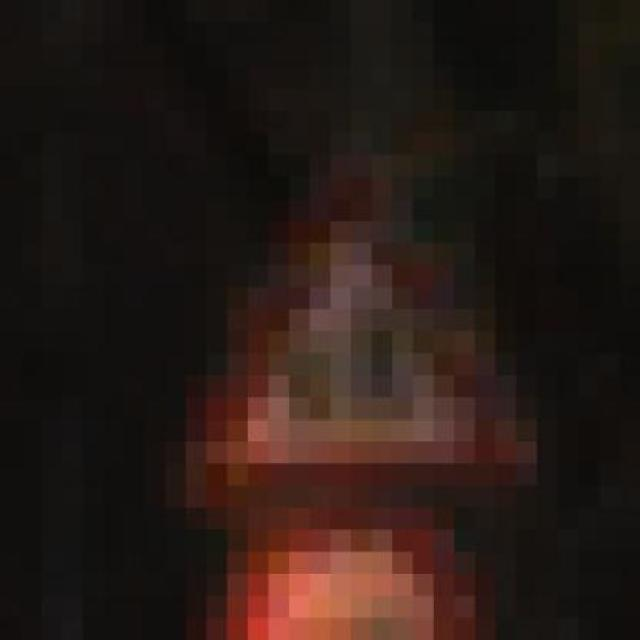Beware of children: (165, 132, 558, 530)
